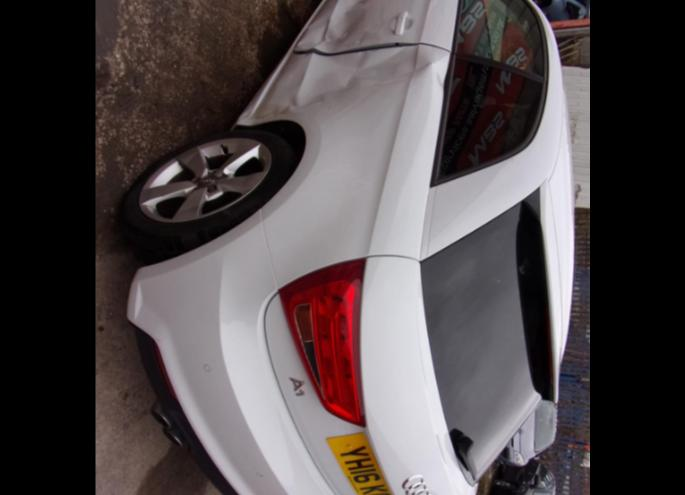Broken part: (290, 39, 452, 58)
Dent: (295, 49, 370, 117), (290, 0, 380, 54), (357, 46, 431, 90), (249, 103, 291, 125), (428, 53, 453, 89), (265, 97, 299, 121), (235, 105, 269, 126)
